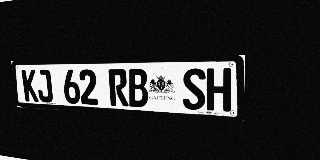2: (79, 69, 98, 105)
6: (62, 69, 81, 104)
B: (127, 69, 149, 107)
H: (206, 68, 231, 112)
J: (36, 70, 53, 103)
K: (21, 70, 39, 102)
R: (108, 69, 129, 106)
S: (182, 68, 206, 110)
